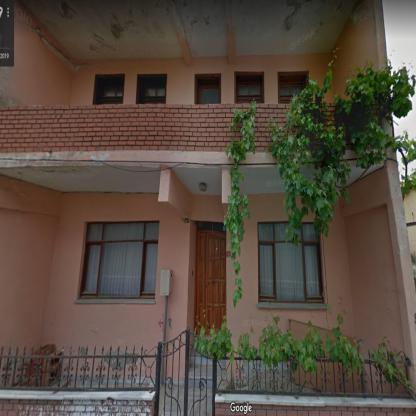door: (195, 222, 226, 335), (195, 74, 220, 104)
window: (79, 221, 158, 298), (258, 222, 323, 302), (278, 71, 308, 102), (93, 74, 124, 103), (235, 71, 264, 102), (137, 74, 166, 102)
